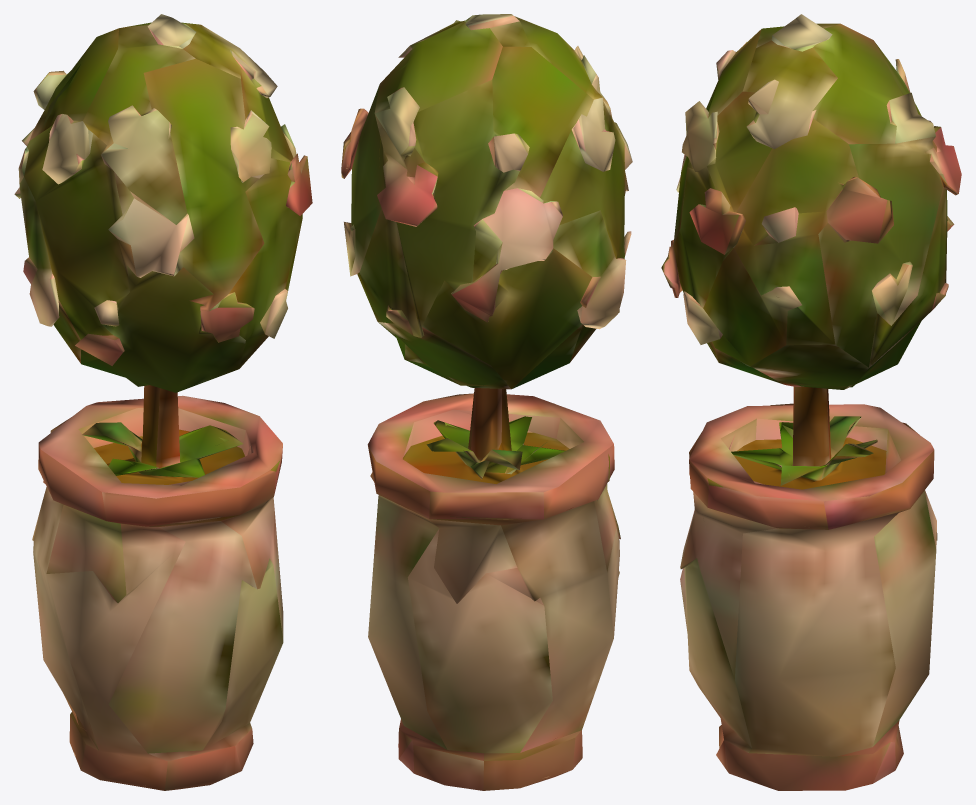
The model's file is bush_pot.glb.
3 renders of one model, left to right at view 1: azimuth 30°, elevation 25°; view 2: azimuth 150°, elevation 25°; view 3: azimuth 270°, elevation 25°, orthographic.
Size of the model in its own units: 0.359 by 1 by 0.3727.
1 material, 1 textured.
